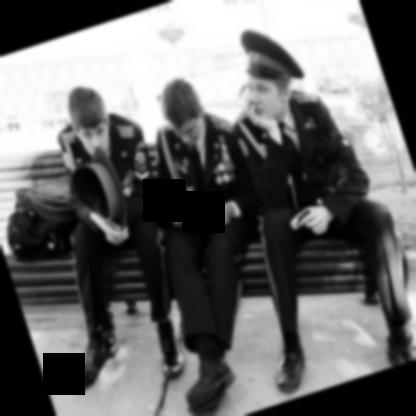backpack: (2, 203, 79, 264), (16, 177, 77, 219)
